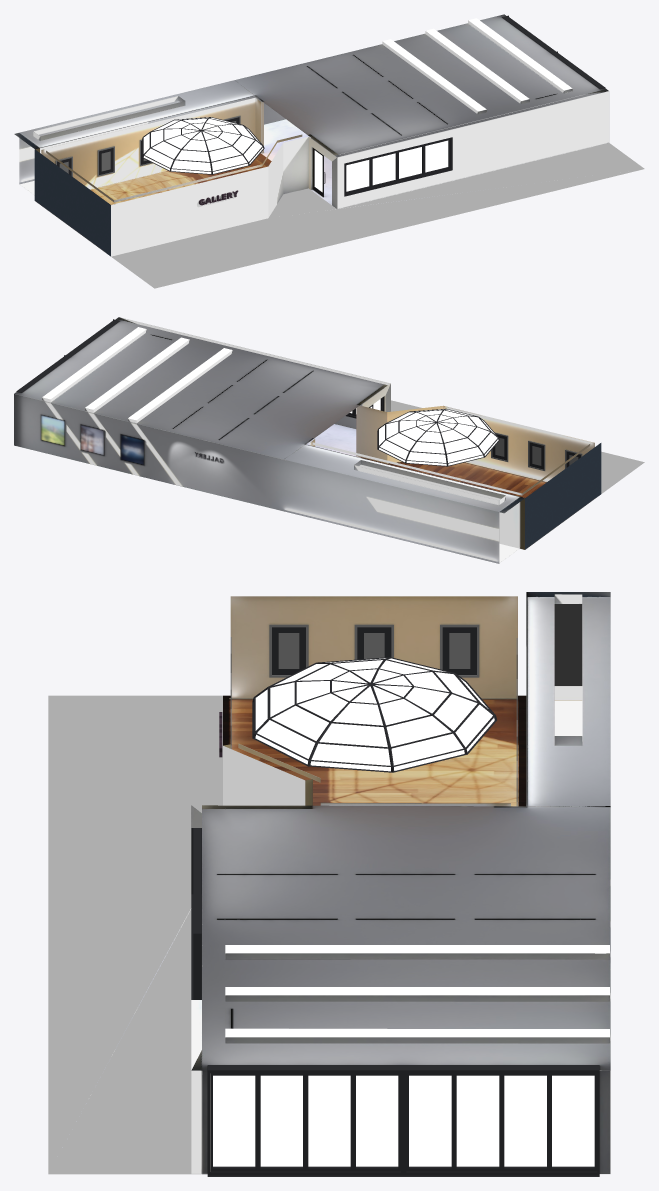
The model's file is art-gallery12.glb.
3 renders of one model, top to bottom at view 1: azimuth 30°, elevation 25°; view 2: azimuth 150°, elevation 25°; view 3: azimuth 270°, elevation 25°, orthographic. The views are drawn at different scales.
Visible parts, largest first — view 1: ParedesPrincipais, Paredes, Chao_entrada.001, Sphere.002, Metais, LuzesEmission, Chao_madeira, Chao_entrada, Todos os quadros; view 2: ParedesPrincipais, Paredes, Sphere.002, LuzesEmission, Chao_madeira, Chao_entrada.001, Chao_entrada, Todos os quadros, Metais; view 3: ParedesPrincipais, Chao_entrada.001, Metais, Paredes, Sphere.002, Chao_madeira, LuzesEmission, Todos os quadros, Chao_entrada.
Boxes of the visible parts, left/top/right/bottom form: ParedesPrincipais: left=14, top=14, right=609, bottom=208; Paredes: left=34, top=97, right=336, bottom=256; Chao_entrada.001: left=111, top=143, right=644, bottom=288; Sphere.002: left=142, top=117, right=264, bottom=174; Metais: left=313, top=15, right=605, bottom=197; LuzesEmission: left=382, top=18, right=572, bottom=111; Chao_madeira: left=90, top=153, right=271, bottom=204; Chao_entrada: left=19, top=119, right=331, bottom=204; Todos os quadros: left=55, top=115, right=240, bottom=176; ParedesPrincipais: left=14, top=317, right=524, bottom=563; Paredes: left=309, top=383, right=601, bottom=549; Sphere.002: left=377, top=408, right=499, bottom=466; LuzesEmission: left=42, top=327, right=232, bottom=420; Chao_madeira: left=360, top=457, right=546, bottom=497; Chao_entrada.001: left=391, top=400, right=644, bottom=493; Chao_entrada: left=306, top=424, right=519, bottom=563; Todos os quadros: left=491, top=432, right=582, bottom=470; Metais: left=16, top=319, right=384, bottom=437; ParedesPrincipais: left=191, top=592, right=610, bottom=1173; Chao_entrada.001: left=48, top=695, right=222, bottom=1174; Metais: left=191, top=828, right=599, bottom=1176; Paredes: left=223, top=596, right=582, bottom=806; Sphere.002: left=252, top=657, right=496, bottom=772; Chao_madeira: left=223, top=695, right=526, bottom=806; LuzesEmission: left=225, top=945, right=609, bottom=1037; Todos os quadros: left=230, top=604, right=582, bottom=806; Chao_entrada: left=191, top=700, right=610, bottom=1174.
Size of the model in its own units: 62.24 by 8.29 by 30.8.
19 materials, 8 textured.
